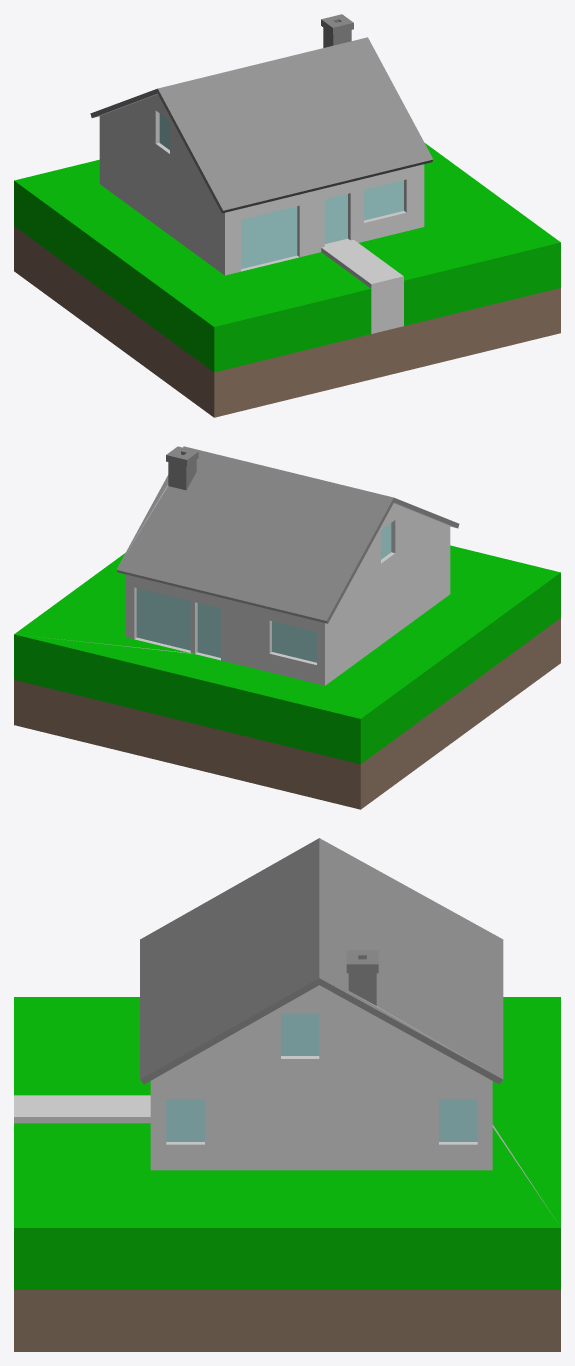
Rendered from CasaPequena2.fbx.
3 views of the same model, one above another, from view 1: azimuth 30°, elevation 25°; view 2: azimuth 150°, elevation 25°; view 3: azimuth 270°, elevation 25° (orthographic). The views are drawn at different scales.
Parts seen in each view (by area): view 1: CasaPequena2; view 2: CasaPequena2; view 3: CasaPequena2.
Part boxes in pixels (<box>): CasaPequena2: <box>14,14,560,417</box>; CasaPequena2: <box>14,446,560,809</box>; CasaPequena2: <box>14,838,560,1351</box>.
Bounding box in the file's own units: 4.5 × 3 × 4.5.
